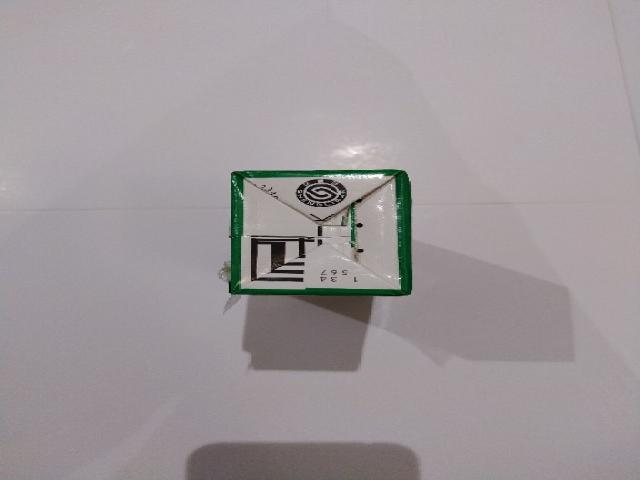drink_box: (216, 168, 416, 297)
